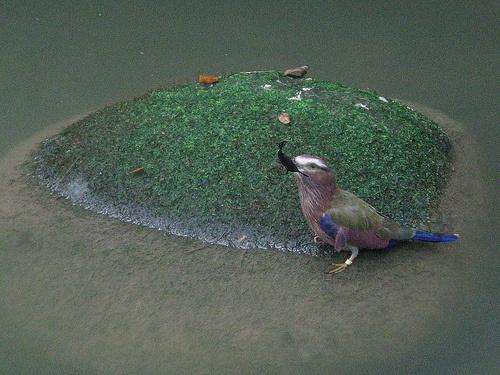tampered: (279, 142, 309, 177)
